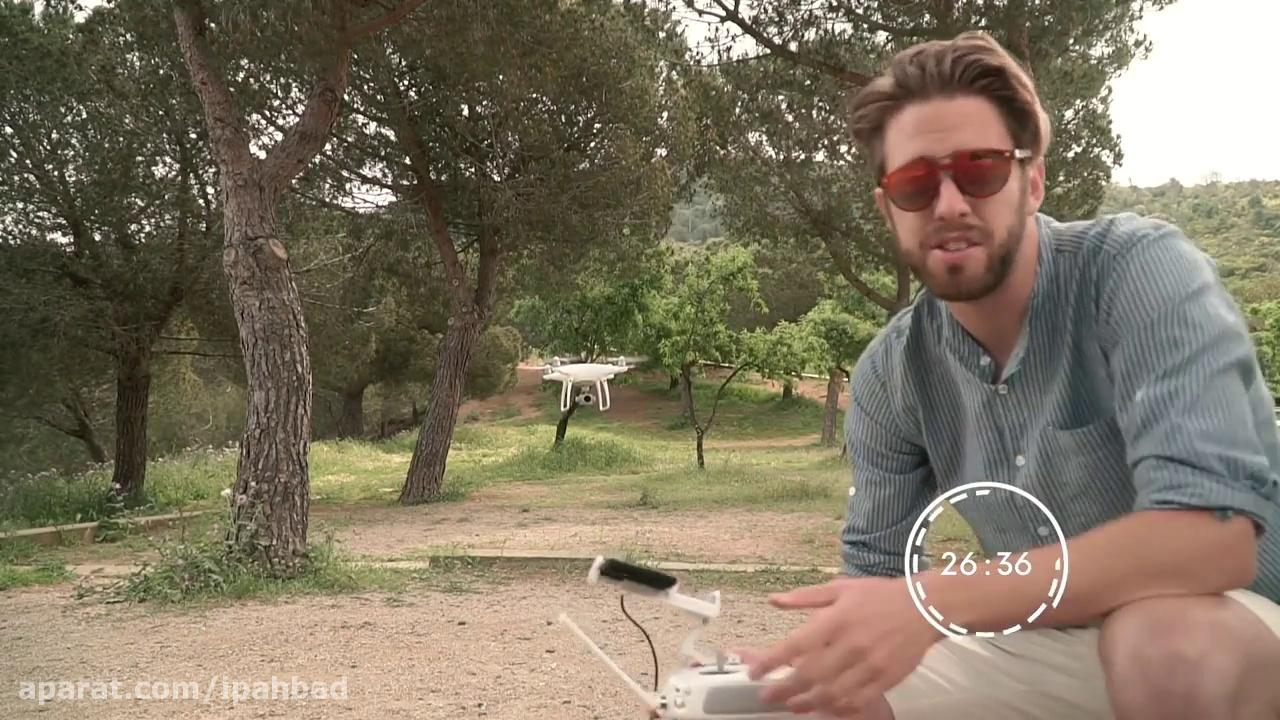drone: (529, 348, 650, 411)
